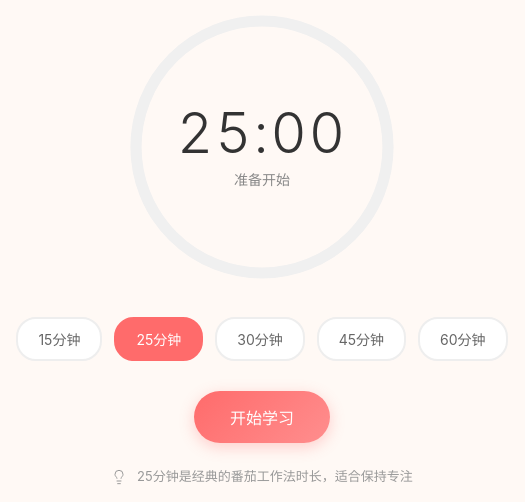
Test: Timer Component › 时间选择 › 应该能切换到15分钟
Click the button "15分钟" at (59, 339), box [16, 317, 102, 361]
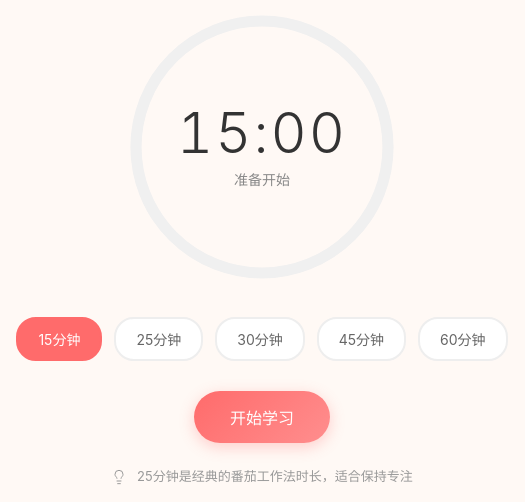
Result: the text "15:00" is shown at [177, 98, 347, 166]
